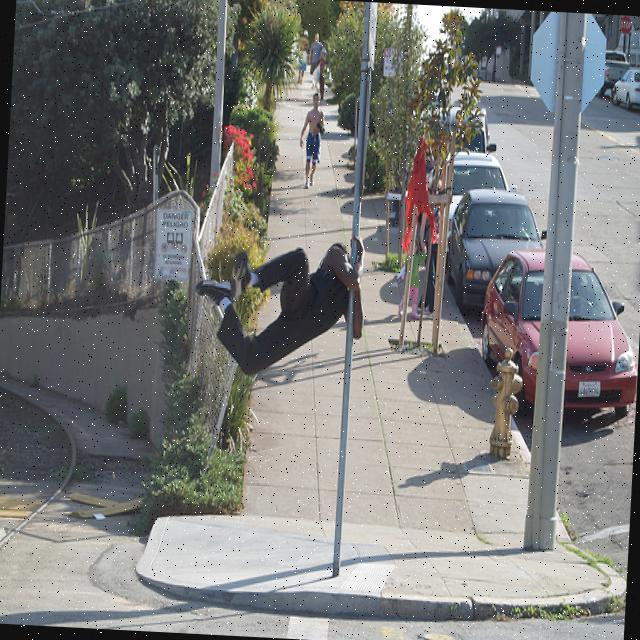fire_hydrant: (482, 342, 524, 460)
